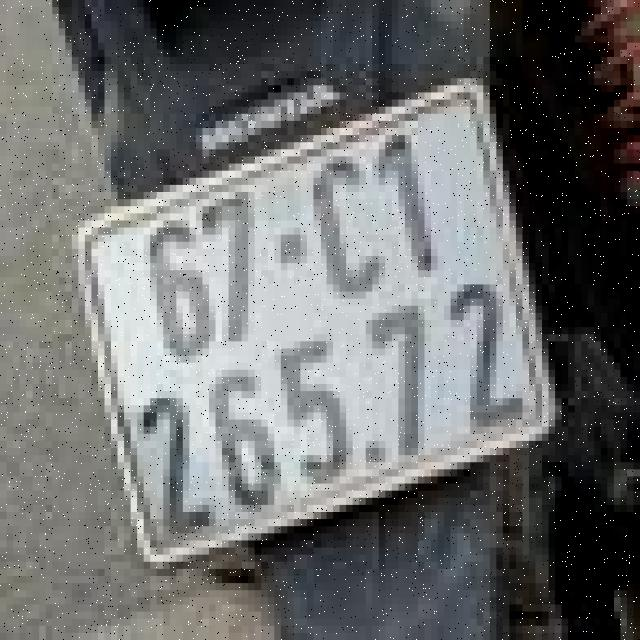1: (367, 115, 464, 290)
2: (441, 270, 543, 450), (126, 381, 231, 547)
5: (272, 317, 369, 501)
6: (193, 354, 297, 523), (136, 202, 230, 372)
7: (354, 288, 449, 469), (193, 186, 283, 356)
C: (299, 148, 390, 319)
